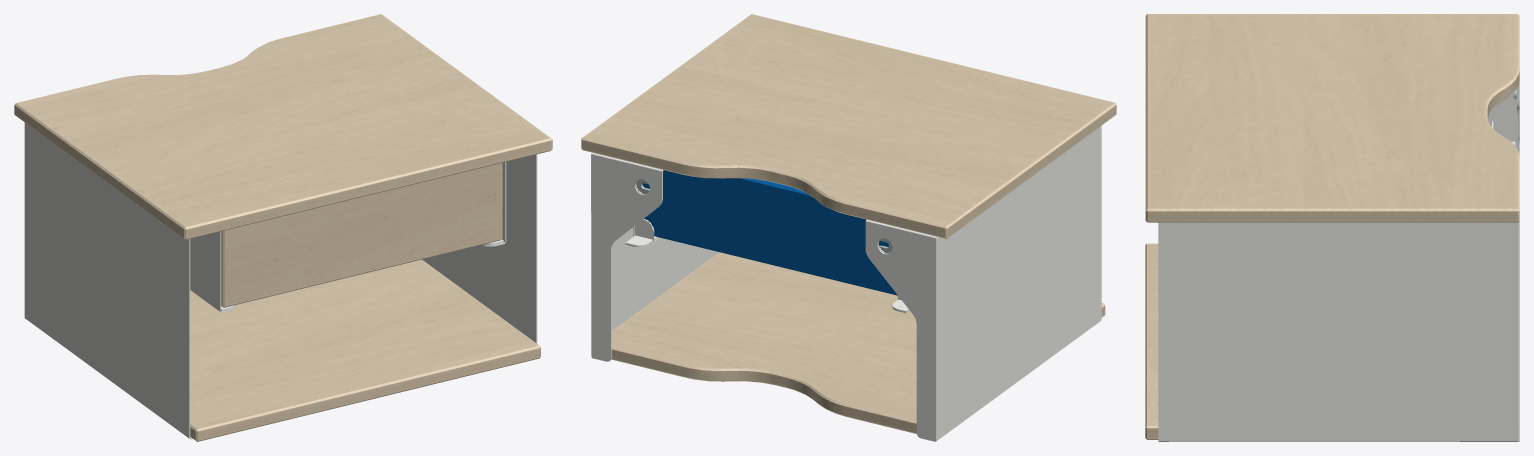
The model's file is 14 - STOMSÖ Wall-mounted bedside table - birch effect whiteblue 36x29x20 cm.glb.
3 renders of one model, left to right at view 1: azimuth 30°, elevation 25°; view 2: azimuth 150°, elevation 25°; view 3: azimuth 270°, elevation 25°, orthographic. The views are drawn at different scales.
Parts seen in each view (by area): view 1: ASY_ART_70567805_S01_NV01, ASY_LPT01_70567805_S01_NV01; view 2: ASY_ART_70567805_S01_NV01, ASY_LPT01_70567805_S01_NV01; view 3: ASY_ART_70567805_S01_NV01.
Part boxes in pixels (box(x1,y1,x2,y2)): ASY_ART_70567805_S01_NV01: box(14, 14, 552, 441); ASY_LPT01_70567805_S01_NV01: box(221, 163, 502, 307); ASY_ART_70567805_S01_NV01: box(581, 14, 1116, 441); ASY_LPT01_70567805_S01_NV01: box(636, 170, 897, 295); ASY_ART_70567805_S01_NV01: box(1145, 14, 1519, 441).
Size of the model in its own units: 0.36 by 0.2046 by 0.2903.
Materials: 2 (2 with a texture image).
